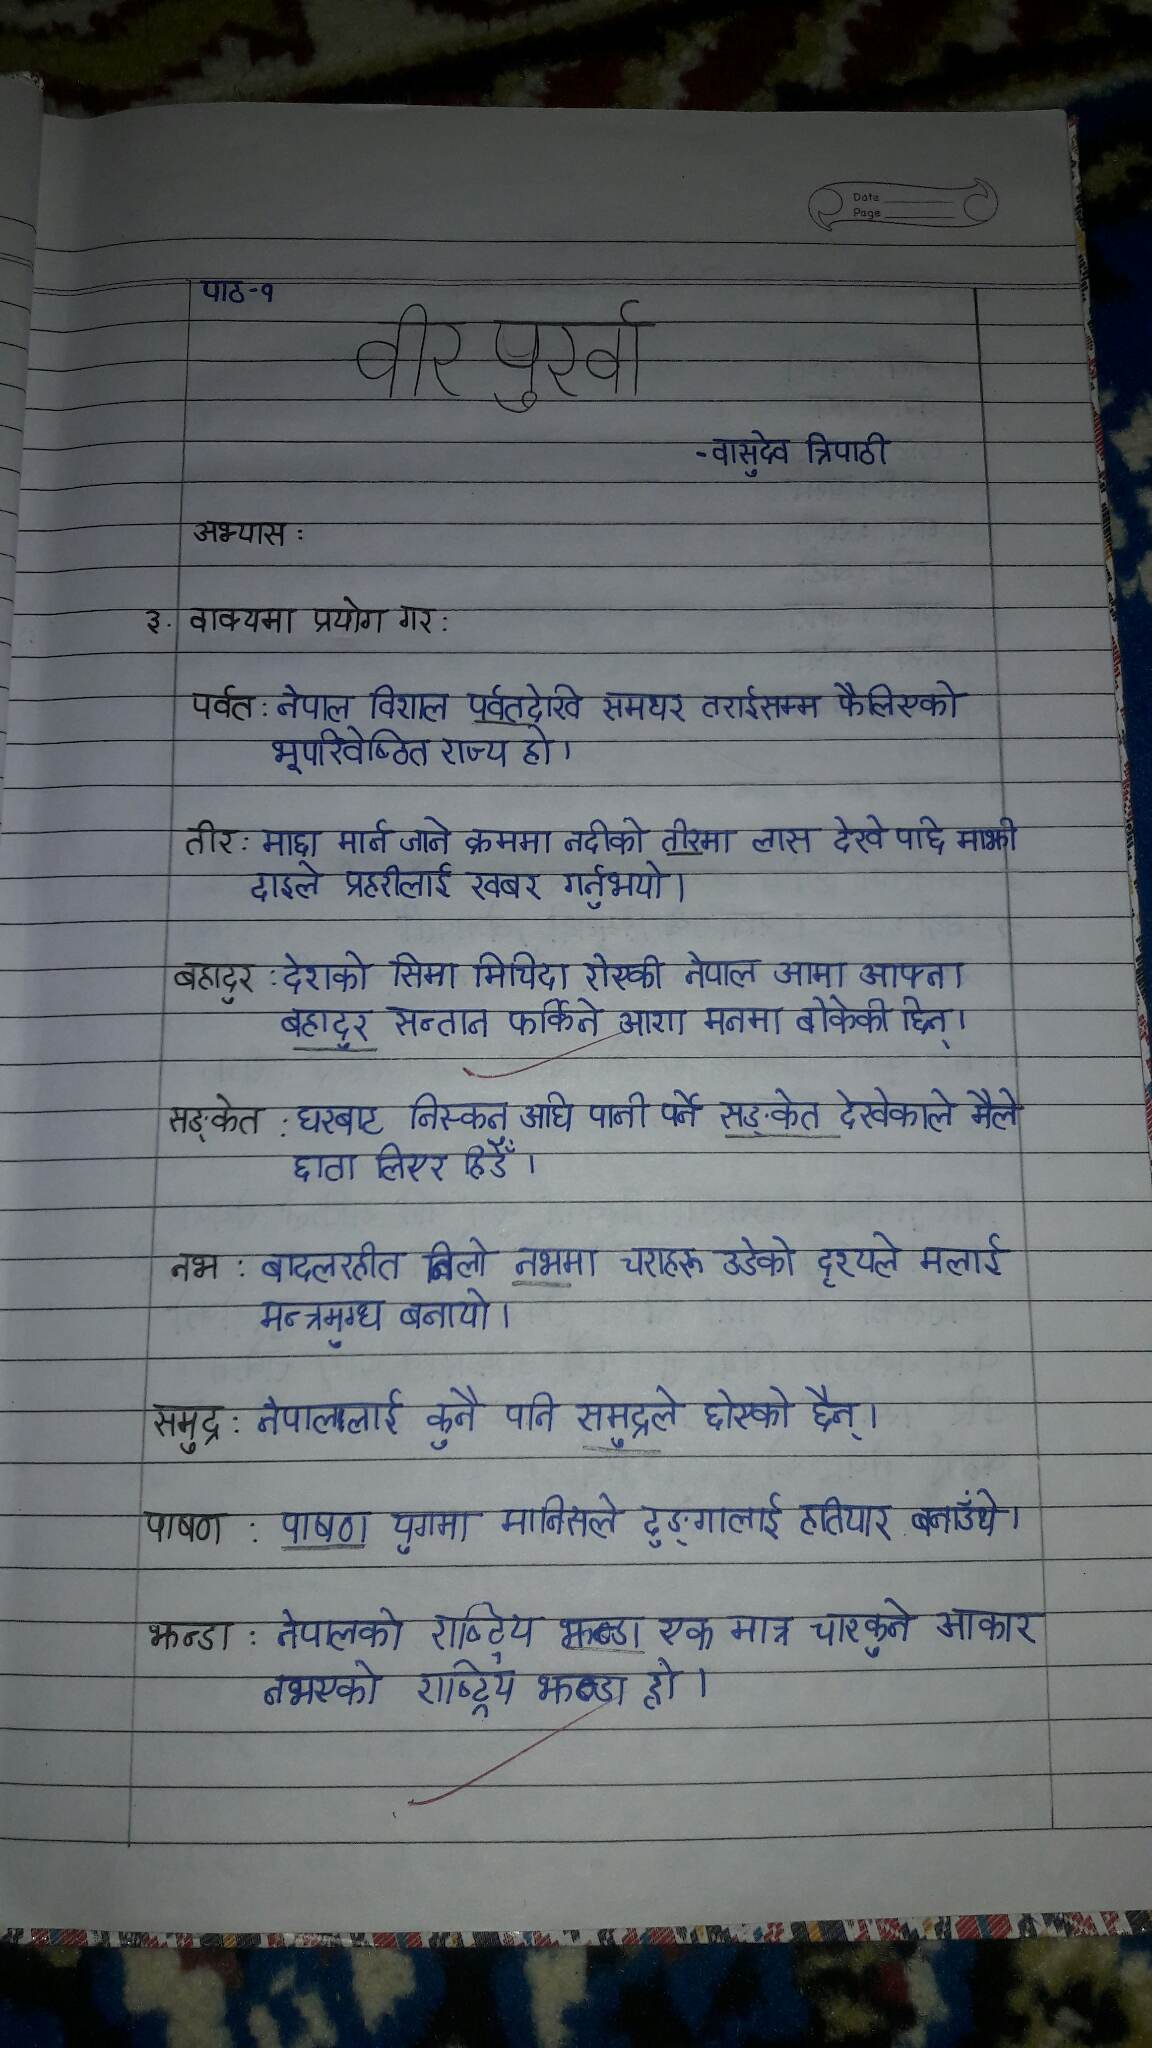text: (487, 294, 653, 416), (350, 301, 473, 408), (639, 1492, 783, 1547), (264, 729, 433, 775), (252, 1388, 404, 1438), (572, 1385, 681, 1453), (257, 1294, 384, 1352), (262, 1241, 407, 1286), (834, 1079, 955, 1132), (807, 1598, 913, 1658), (276, 1606, 408, 1654), (414, 1658, 518, 1719), (433, 1601, 542, 1658), (827, 677, 964, 722), (498, 1492, 622, 1542), (259, 1658, 383, 1708), (700, 684, 821, 729), (467, 681, 589, 724), (342, 857, 459, 902), (910, 1487, 1006, 1542), (166, 1089, 262, 1142), (561, 862, 667, 910), (816, 1229, 902, 1287), (800, 1492, 895, 1544), (931, 1605, 1039, 1649), (409, 1087, 513, 1132), (699, 1383, 793, 1432), (473, 948, 572, 994), (390, 1506, 481, 1557), (717, 1089, 820, 1134), (149, 1400, 224, 1460), (384, 1003, 498, 1042), (508, 994, 601, 1042), (281, 945, 371, 994), (793, 992, 892, 1037), (395, 1288, 492, 1333), (594, 686, 693, 730), (709, 428, 792, 480), (279, 1004, 371, 1049), (802, 1380, 869, 1442), (581, 947, 667, 994), (172, 956, 255, 1006), (187, 602, 298, 639), (805, 428, 895, 473), (919, 1232, 1004, 1279), (533, 1668, 629, 1709), (188, 513, 290, 551), (900, 992, 958, 1056), (859, 958, 969, 992), (460, 821, 557, 859), (561, 814, 648, 857), (717, 1232, 796, 1279), (280, 1509, 376, 1547), (369, 681, 452, 724), (558, 1611, 643, 1653), (425, 1385, 480, 1450), (308, 594, 387, 639), (276, 679, 354, 724), (246, 859, 324, 904), (142, 1506, 226, 1547), (295, 1101, 385, 1139), (376, 1139, 449, 1186), (619, 1242, 705, 1281), (145, 1618, 236, 1654), (679, 947, 760, 987), (512, 1245, 601, 1281), (422, 1235, 489, 1283), (660, 813, 733, 857), (390, 947, 460, 992), (954, 813, 1023, 857), (699, 1004, 786, 1038), (466, 866, 546, 903), (436, 730, 508, 771), (772, 954, 845, 993), (187, 684, 257, 724), (198, 276, 279, 311), (588, 1089, 651, 1132), (727, 1611, 792, 1653), (288, 1146, 363, 1183), (828, 813, 889, 858), (520, 1089, 580, 1134), (502, 1391, 560, 1436), (398, 814, 454, 859), (459, 1137, 516, 1180), (971, 1084, 1020, 1135), (617, 1004, 691, 1038), (655, 1613, 716, 1654), (639, 1658, 681, 1715), (336, 819, 394, 859), (259, 826, 324, 859), (748, 826, 819, 857), (895, 812, 947, 852), (184, 819, 236, 857), (519, 719, 554, 771), (660, 1086, 700, 1129), (166, 1250, 219, 1283), (394, 598, 436, 639), (138, 605, 165, 641)
